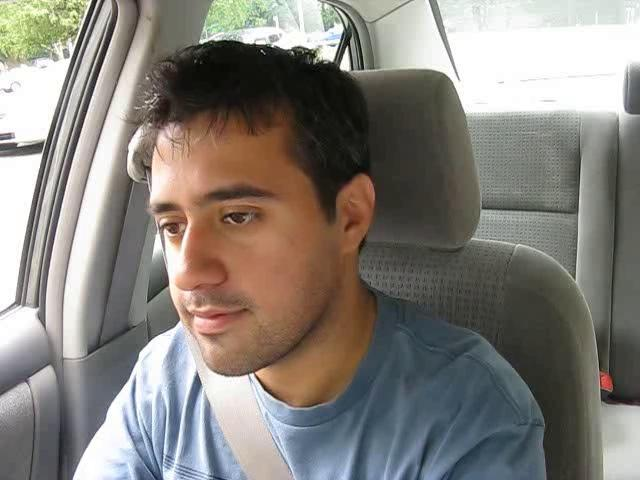close_eyeL: (147, 212, 193, 249)
close_eyeR: (209, 194, 278, 240)
no_yawn: (163, 289, 264, 346)
